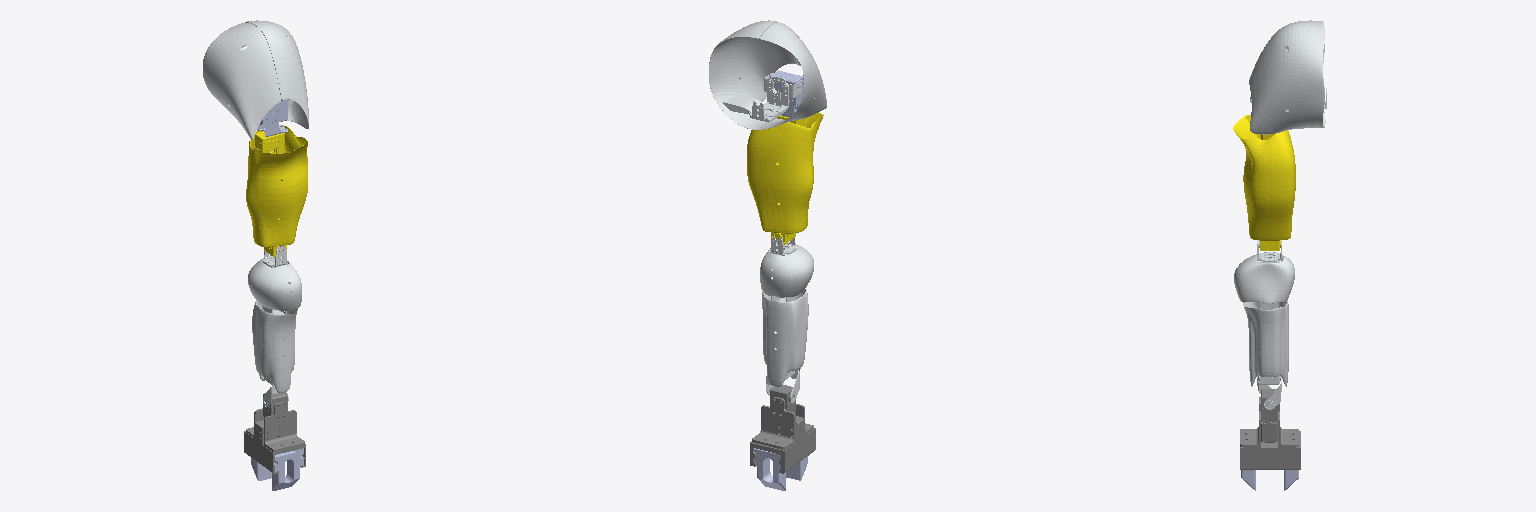
The robot description file, URDF, robot "right_arm_URDF":
<?xml version="1.0" encoding="utf-8"?>
<!-- This URDF was automatically created by SolidWorks to URDF Exporter! Originally created by [author] ([email redacted]) 
     Commit Version: 1.6.0-4-g7f85cfe  Build Version: 1.6.7995.38578
     For more information, please see http://wiki.ros.org/sw_urdf_exporter -->
<robot
  name="right_arm_URDF">
  <link
    name="base_link">
    <inertial>
      <origin
        xyz="0.0037770582145105 3.88556369317198E-05 -0.172672466710726"
        rpy="0 0 0" />
      <mass
        value="5.9028025886278" />
      <inertia
        ixx="0.22526915301125"
        ixy="1.39710828126589E-05"
        ixz="-0.00459702042142445"
        iyy="0.179623680457409"
        iyz="8.01873931509789E-06"
        izz="0.0829719390497794" />
    </inertial>
    <visual>
      <origin
        xyz="0 0 0"
        rpy="0 0 0" />
      <geometry>
        <mesh
          filename="package://myrobot_description/meshes/base_link.STL" />
      </geometry>
      <material
        name="">
        <color
          rgba="0.6 0.6 0.6 1" />
      </material>
    </visual>
    <collision>
      <origin
        xyz="0 0 0"
        rpy="0 0 0" />
      <geometry>
        <mesh
          filename="package://myrobot_description/meshes/base_link.STL" />
      </geometry>
    </collision>
  </link>
  <link
    name="right_shoulder_1">
    <inertial>
      <origin
        xyz="-0.00498215647893118 0.0137616146087366 -0.0587574888680724"
        rpy="0 0 0" />
      <mass
        value="0.358747412616118" />
      <inertia
        ixx="0.00104417521358521"
        ixy="2.43737115789025E-07"
        ixz="-2.12763691090865E-06"
        iyy="0.000472659404210992"
        iyz="2.81188938611361E-05"
        izz="0.000898654043890314" />
    </inertial>
    <visual>
      <origin
        xyz="0 0 0"
        rpy="0 0 0" />
      <geometry>
        <mesh
          filename="package://myrobot_description/meshes/right_shoulder_1.STL" />
      </geometry>
      <material
        name="">
        <color
          rgba="0.898039215686275 0.917647058823529 0.929411764705882 1" />
      </material>
    </visual>
    <collision>
      <origin
        xyz="0 0 0"
        rpy="0 0 0" />
      <geometry>
        <mesh
          filename="package://myrobot_description/meshes/right_shoulder_1.STL" />
      </geometry>
    </collision>
  </link>
  <joint
    name="j11"
    type="revolute">
    <origin
      xyz="0 -0.206244975000007 -0.0122500000000135"
      rpy="1.5707963267949 0 3.14159265358979" />
    <parent
      link="base_link" />
    <child
      link="right_shoulder_1" />
    <axis
      xyz="0 0 -1" />
    <limit
      lower="-1.571"
      upper="1.571"
      effort="0"
      velocity="0" />
  </joint>
  <link
    name="right_shoulder_2">
    <inertial>
      <origin
        xyz="-6.73325330163288E-05 -0.0178133834509994 -0.00264857656869381"
        rpy="0 0 0" />
      <mass
        value="0.0788967649028125" />
      <inertia
        ixx="2.49703186314024E-05"
        ixy="-6.29890723815443E-09"
        ixz="1.29775866565855E-09"
        iyy="1.49488308477605E-05"
        iyz="2.11248808728775E-06"
        izz="2.56896410530108E-05" />
    </inertial>
    <visual>
      <origin
        xyz="0 0 0"
        rpy="0 0 0" />
      <geometry>
        <mesh
          filename="package://myrobot_description/meshes/right_shoulder_2.STL" />
      </geometry>
      <material
        name="">
        <color
          rgba="0.792156862745098 0.819607843137255 0.933333333333333 1" />
      </material>
    </visual>
    <collision>
      <origin
        xyz="0 0 0"
        rpy="0 0 0" />
      <geometry>
        <mesh
          filename="package://myrobot_description/meshes/right_shoulder_2.STL" />
      </geometry>
    </collision>
  </link>
  <joint
    name="j12"
    type="revolute">
    <origin
      xyz="0 0.000324623368866475 -0.0970303585666253"
      rpy="-1.5707963267949 -1.57015699455256 1.5707963267949" />
    <parent
      link="right_shoulder_1" />
    <child
      link="right_shoulder_2" />
    <axis
      xyz="0 0 1" />
    <limit
      lower="-1.22"
      upper="0.105"
      effort="0"
      velocity="0" />
  </joint>
  <link
    name="right_shoulder_3">
    <inertial>
      <origin
        xyz="0.000430433929476714 -0.109894765422854 0.000393694393193644"
        rpy="0 0 0" />
      <mass
        value="0.401306132014166" />
      <inertia
        ixx="0.000940757343541795"
        ixy="1.37520778100829E-05"
        ixz="1.53363764794489E-05"
        iyy="0.000500469687891597"
        iyz="-4.60242595160868E-06"
        izz="0.00103063033082381" />
    </inertial>
    <visual>
      <origin
        xyz="0 0 0"
        rpy="0 0 0" />
      <geometry>
        <mesh
          filename="package://myrobot_description/meshes/right_shoulder_3.STL" />
      </geometry>
      <material
        name="">
        <color
          rgba="1 0.937254901960784 0.137254901960784 1" />
      </material>
    </visual>
    <collision>
      <origin
        xyz="0 0 0"
        rpy="0 0 0" />
      <geometry>
        <mesh
          filename="package://myrobot_description/meshes/right_shoulder_3.STL" />
      </geometry>
    </collision>
  </link>
  <joint
    name="j13"
    type="revolute">
    <origin
      xyz="-0.000197322450632975 -0.0552057468871058 0.00797500000025222"
      rpy="0.00127866448471928 1.5707963267949 0" />
    <parent
      link="right_shoulder_2" />
    <child
      link="right_shoulder_3" />
    <axis
      xyz="0 0.999999182508679 -0.00127866413627633" />
    <limit
      lower="-1.571"
      upper="1.571"
      effort="0"
      velocity="0" />
  </joint>
  <link
    name="right_elbow_1">
    <inertial>
      <origin
        xyz="-0.00792320443264116 0.0623876112674557 0.00257307614356453"
        rpy="0 0 0" />
      <mass
        value="0.164684756558366" />
      <inertia
        ixx="0.000106256537668795"
        ixy="4.7039782753727E-06"
        ixz="-3.00034670234032E-06"
        iyy="0.000157286928748668"
        iyz="4.71514134091977E-07"
        izz="0.000136959034265782" />
    </inertial>
    <visual>
      <origin
        xyz="0 0 0"
        rpy="0 0 0" />
      <geometry>
        <mesh
          filename="package://myrobot_description/meshes/right_elbow_1.STL" />
      </geometry>
      <material
        name="">
        <color
          rgba="0.898039215686275 0.917647058823529 0.929411764705882 1" />
      </material>
    </visual>
    <collision>
      <origin
        xyz="0 0 0"
        rpy="0 0 0" />
      <geometry>
        <mesh
          filename="package://myrobot_description/meshes/right_elbow_1.STL" />
      </geometry>
    </collision>
  </link>
  <joint
    name="j14"
    type="revolute">
    <origin
      xyz="0.000100000000253023 -0.224696856366736 0"
      rpy="1.5707963267949 -1.56951766231018 1.5707963267949" />
    <parent
      link="right_shoulder_3" />
    <child
      link="right_elbow_1" />
    <axis
      xyz="-1 0 0" />
    <limit
      lower="-1.0472"
      upper="1.309"
      effort="0"
      velocity="0" />
  </joint>
  <link
    name="right_elbow_2">
    <inertial>
      <origin
        xyz="0.000818777177861829 0.0816791761599194 -0.000857056126088719"
        rpy="0 0 0" />
      <mass
        value="0.237392378321504" />
      <inertia
        ixx="0.00029631988680438"
        ixy="-1.5245771891154E-07"
        ixz="1.45924985242579E-07"
        iyy="0.000157802420853618"
        iyz="-2.71639401764095E-06"
        izz="0.000298542738588507" />
    </inertial>
    <visual>
      <origin
        xyz="0 0 0"
        rpy="0 0 0" />
      <geometry>
        <mesh
          filename="package://myrobot_description/meshes/right_elbow_2.STL" />
      </geometry>
      <material
        name="">
        <color
          rgba="0.898039215686275 0.917647058823529 0.929411764705882 1" />
      </material>
    </visual>
    <collision>
      <origin
        xyz="0 0 0"
        rpy="0 0 0" />
      <geometry>
        <mesh
          filename="package://myrobot_description/meshes/right_elbow_2.STL" />
      </geometry>
    </collision>
  </link>
  <joint
    name="j15"
    type="revolute">
    <origin
      xyz="-1.83717277871809E-05 0.101985602391172 0.00019732244229459"
      rpy="3.14159265358979 0 3.14159265358979" />
    <parent
      link="right_elbow_1" />
    <child
      link="right_elbow_2" />
    <axis
      xyz="0 1 0" />
    <limit
      lower="-1.57"
      upper="1.57"
      effort="0"
      velocity="0" />
  </joint>
  <link
    name="right_wrist_1">
    <inertial>
      <origin
        xyz="-0.00363416239539688 -0.0222541766679796 0.00363418616749818"
        rpy="0 0 0" />
      <mass
        value="0.0225938557953762" />
      <inertia
        ixx="5.04671811423024E-06"
        ixy="-1.40162779340714E-13"
        ixz="5.69823476304623E-07"
        iyy="2.14643808296516E-06"
        iyz="9.00537592981696E-13"
        izz="5.01430848047236E-06" />
    </inertial>
    <visual>
      <origin
        xyz="0 0 0"
        rpy="0 0 0" />
      <geometry>
        <mesh
          filename="package://myrobot_description/meshes/right_wrist_1.STL" />
      </geometry>
      <material
        name="">
        <color
          rgba="0.898039215686275 0.917647058823529 0.929411764705882 1" />
      </material>
    </visual>
    <collision>
      <origin
        xyz="0 0 0"
        rpy="0 0 0" />
      <geometry>
        <mesh
          filename="package://myrobot_description/meshes/right_wrist_1.STL" />
      </geometry>
    </collision>
  </link>
  <joint
    name="j16"
    type="revolute">
    <origin
      xyz="0.000338552314752161 0.147652253083333 0.000497322442299319"
      rpy="0 0 3.14095332134742" />
    <parent
      link="right_elbow_2" />
    <child
      link="right_wrist_1" />
    <axis
      xyz="-0.999999795627149 -0.000639332198812096 0" />
    <limit
      lower="-0.52"
      upper="0.52"
      effort="0"
      velocity="0" />
  </joint>
  <link
    name="right_wrist_2">
    <inertial>
      <origin
        xyz="0.000439259067155306 -0.0569085161540602 -0.00250947151873959"
        rpy="0 0 0" />
      <mass
        value="0.20298498678678" />
      <inertia
        ixx="0.000118675848405242"
        ixy="7.09790847455237E-08"
        ixz="7.42215259712281E-14"
        iyy="0.000142547035444907"
        iyz="2.12775473155197E-08"
        izz="0.000116701102404343" />
    </inertial>
    <visual>
      <origin
        xyz="0 0 0"
        rpy="0 0 0" />
      <geometry>
        <mesh
          filename="package://myrobot_description/meshes/right_wrist_2.STL" />
      </geometry>
      <material
        name="">
        <color
          rgba="0.6 0.6 0.6 1" />
      </material>
    </visual>
    <collision>
      <origin
        xyz="0 0 0"
        rpy="0 0 0" />
      <geometry>
        <mesh
          filename="package://myrobot_description/meshes/right_wrist_2.STL" />
      </geometry>
    </collision>
  </link>
  <joint
    name="j17"
    type="revolute">
    <origin
      xyz="0.000494644890471518 -0.0450001174205644 -0.000127322447598478"
      rpy="0 0 0" />
    <parent
      link="right_wrist_1" />
    <child
      link="right_wrist_2" />
    <axis
      xyz="0 0 1" />
    <limit
      lower="-1.571"
      upper="1.571"
      effort="0"
      velocity="0" />
  </joint>
  <link
    name="right_finger_1">
    <inertial>
      <origin
        xyz="-0.0128841580508815 0.0341204574596806 -0.0109116869185103"
        rpy="0 0 0" />
      <mass
        value="0.0609022599124917" />
      <inertia
        ixx="4.82024505958164E-05"
        ixy="-3.17406017338133E-07"
        ixz="1.70407872657134E-06"
        iyy="2.31897349198971E-05"
        iyz="3.40739906139007E-06"
        izz="3.67679960822001E-05" />
    </inertial>
    <visual>
      <origin
        xyz="0 0 0"
        rpy="0 0 0" />
      <geometry>
        <mesh
          filename="package://myrobot_description/meshes/right_finger_1.STL" />
      </geometry>
      <material
        name="">
        <color
          rgba="0.792156862745098 0.819607843137255 0.933333333333333 1" />
      </material>
    </visual>
    <collision>
      <origin
        xyz="0 0 0"
        rpy="0 0 0" />
      <geometry>
        <mesh
          filename="package://myrobot_description/meshes/right_finger_1.STL" />
      </geometry>
    </collision>
  </link>
  <joint
    name="f18"
    type="prismatic">
    <origin
      xyz="-0.0472293186770806 -0.0797999999999117 0.012800000000167"
      rpy="0 0 3.14159265358979" />
    <parent
      link="right_wrist_2" />
    <child
      link="right_finger_1" />
    <axis
      xyz="-1 0 0" />
    <limit
      lower="0"
      upper="0.024"
      effort="0"
      velocity="0" />
  </joint>
  <link
    name="right_finger_2">
    <inertial>
      <origin
        xyz="-0.0128841580735367 0.0341204574596168 -0.0109116869118019"
        rpy="0 0 0" />
      <mass
        value="0.0609022599124919" />
      <inertia
        ixx="4.82024505958166E-05"
        ixy="-3.17406017338123E-07"
        ixz="1.70407872657131E-06"
        iyy="2.31897349198971E-05"
        iyz="3.40739906139007E-06"
        izz="3.67679960822002E-05" />
    </inertial>
    <visual>
      <origin
        xyz="0 0 0"
        rpy="0 0 0" />
      <geometry>
        <mesh
          filename="package://myrobot_description/meshes/right_finger_2.STL" />
      </geometry>
      <material
        name="">
        <color
          rgba="0.792156862745098 0.819607843137255 0.933333333333333 1" />
      </material>
    </visual>
    <collision>
      <origin
        xyz="0 0 0"
        rpy="0 0 0" />
      <geometry>
        <mesh
          filename="package://myrobot_description/meshes/right_finger_2.STL" />
      </geometry>
    </collision>
  </link>
  <joint
    name="f19"
    type="prismatic">
    <origin
      xyz="0.0480618808715608 -0.0797999999999758 -0.0127999999994104"
      rpy="3.14159265358979 0 0" />
    <parent
      link="right_wrist_2" />
    <child
      link="right_finger_2" />
    <axis
      xyz="1 0 0" />
    <limit
      lower="-0.024"
      upper="0"
      effort="0"
      velocity="0" />
  </joint>
</robot>

--- Facts derived from the render (not from the file) ---
3 views of the same robot in one strip: view 1: azimuth 30°, elevation 25°; view 2: azimuth 150°, elevation 25°; view 3: azimuth 270°, elevation 25° (orthographic).
Robot: right_arm_URDF — 10 links, 9 joints (7 revolute, 2 prismatic); root link base_link; default pose: every joint at zero.
Visible links, largest first — view 1: right_shoulder_1, right_shoulder_3, right_elbow_2, right_wrist_2, right_elbow_1, right_finger_1, right_shoulder_2; view 2: right_shoulder_1, right_shoulder_3, right_elbow_2, right_wrist_2, right_elbow_1, right_finger_2, right_shoulder_2; view 3: right_shoulder_1, right_shoulder_3, right_elbow_2, right_wrist_2, right_elbow_1.
Boxes of the visible links, x1,y1,x2,y2 form: right_shoulder_1: [203, 20, 308, 140]; right_shoulder_3: [246, 125, 307, 257]; right_elbow_2: [252, 301, 297, 392]; right_wrist_2: [244, 392, 305, 473]; right_elbow_1: [248, 246, 301, 310]; right_finger_1: [272, 448, 303, 490]; right_shoulder_2: [257, 99, 287, 136]; right_shoulder_1: [709, 20, 826, 129]; right_shoulder_3: [747, 112, 823, 244]; right_elbow_2: [762, 289, 808, 386]; right_wrist_2: [750, 385, 815, 473]; right_elbow_1: [760, 236, 813, 297]; right_finger_2: [754, 448, 785, 490]; right_shoulder_2: [770, 70, 803, 116]; right_shoulder_1: [1249, 20, 1326, 134]; right_shoulder_3: [1233, 115, 1295, 250]; right_elbow_2: [1243, 300, 1288, 386]; right_wrist_2: [1240, 389, 1300, 469]; right_elbow_1: [1234, 240, 1294, 303].
Bounding box of the posed robot: 0.1829 × 0.1595 × 0.8651 m (x, y, z).
Meshes: 10 distinct files referenced, 9 mesh visuals loaded (9 binary STL); not drawn: 1 (reference not matched to a file when rendering).